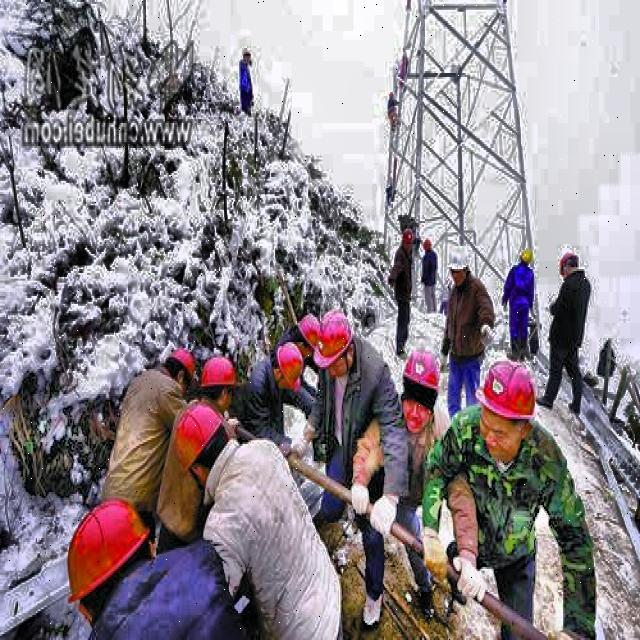helmet: (56, 484, 162, 624), (170, 396, 240, 500), (476, 356, 538, 460), (401, 344, 443, 436), (198, 352, 238, 419), (317, 308, 353, 382), (155, 340, 197, 394), (269, 346, 303, 394), (290, 314, 326, 359), (449, 244, 474, 288), (556, 250, 584, 280), (512, 248, 535, 273), (399, 226, 414, 254)
